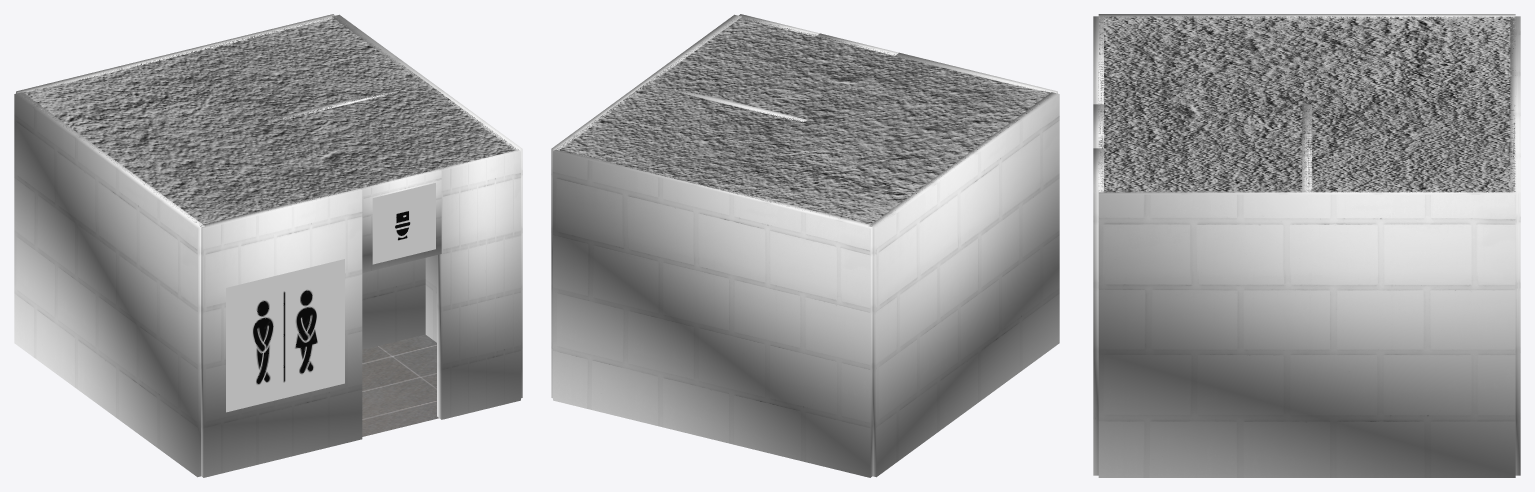
Rendered from banio.obj.
The picture shows the model from 3 angles, left to right: view 1: azimuth 30°, elevation 25°; view 2: azimuth 150°, elevation 25°; view 3: azimuth 270°, elevation 25°; orthographic projection. The views are drawn at different scales.
Visible parts, largest first — view 1: techo, paredUno, paredIzq, paredDer, iconoBanio, piso, paredDivision, wc, paredDos, complemento, paredTres; view 2: paredTres, techo, paredUno, paredDos, paredIzq, paredDivision; view 3: paredDos, techo, paredTres, paredDer, paredUno, paredIzq, paredDivision, complemento.
Boxes of the visible parts, left/top/right/bottom form: techo: left=21, top=17, right=518, bottom=224; paredUno: left=14, top=92, right=204, bottom=477; paredIzq: left=200, top=187, right=362, bottom=477; paredDer: left=437, top=149, right=520, bottom=419; iconoBanio: left=226, top=259, right=344, bottom=412; piso: left=362, top=334, right=438, bottom=436; paredDivision: left=266, top=87, right=425, bottom=349; wc: left=372, top=183, right=435, bottom=264; paredDos: left=332, top=14, right=522, bottom=398; complemento: left=359, top=168, right=441, bottom=272; paredTres: left=16, top=14, right=334, bottom=93; paredTres: left=553, top=149, right=873, bottom=477; techo: left=556, top=17, right=1050, bottom=224; paredUno: left=869, top=92, right=1059, bottom=477; paredDos: left=551, top=14, right=741, bottom=398; paredIzq: left=895, top=52, right=1057, bottom=93; paredDivision: left=660, top=87, right=807, bottom=122; paredDos: left=1098, top=190, right=1515, bottom=477; techo: left=1098, top=16, right=1515, bottom=192; paredTres: left=1510, top=16, right=1520, bottom=475; paredDer: left=1093, top=148, right=1103, bottom=475; paredUno: left=1098, top=14, right=1515, bottom=18; paredIzq: left=1093, top=16, right=1103, bottom=104; paredDivision: left=1302, top=104, right=1312, bottom=192; complemento: left=1093, top=104, right=1103, bottom=148.
Size of the model in its own units: 41 by 30 by 41.5.
5 materials, 5 textured.
